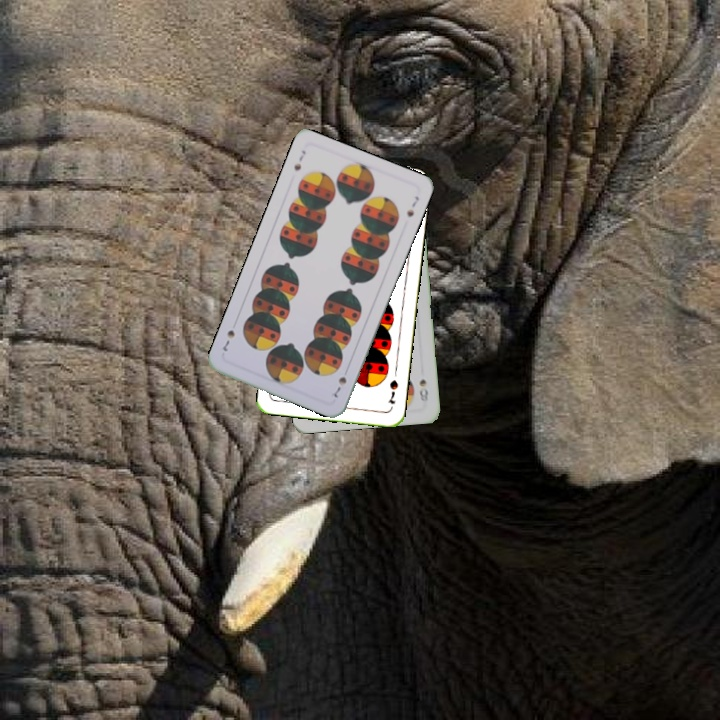S7: (330, 372, 349, 400), (384, 376, 401, 407), (290, 146, 308, 173)
S8: (415, 375, 430, 404)
